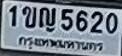letters: (38, 7, 57, 33), (21, 6, 37, 29), (90, 10, 104, 35), (60, 8, 74, 32), (75, 9, 89, 33), (105, 12, 119, 35), (7, 4, 18, 29)
province: (17, 35, 104, 52)
